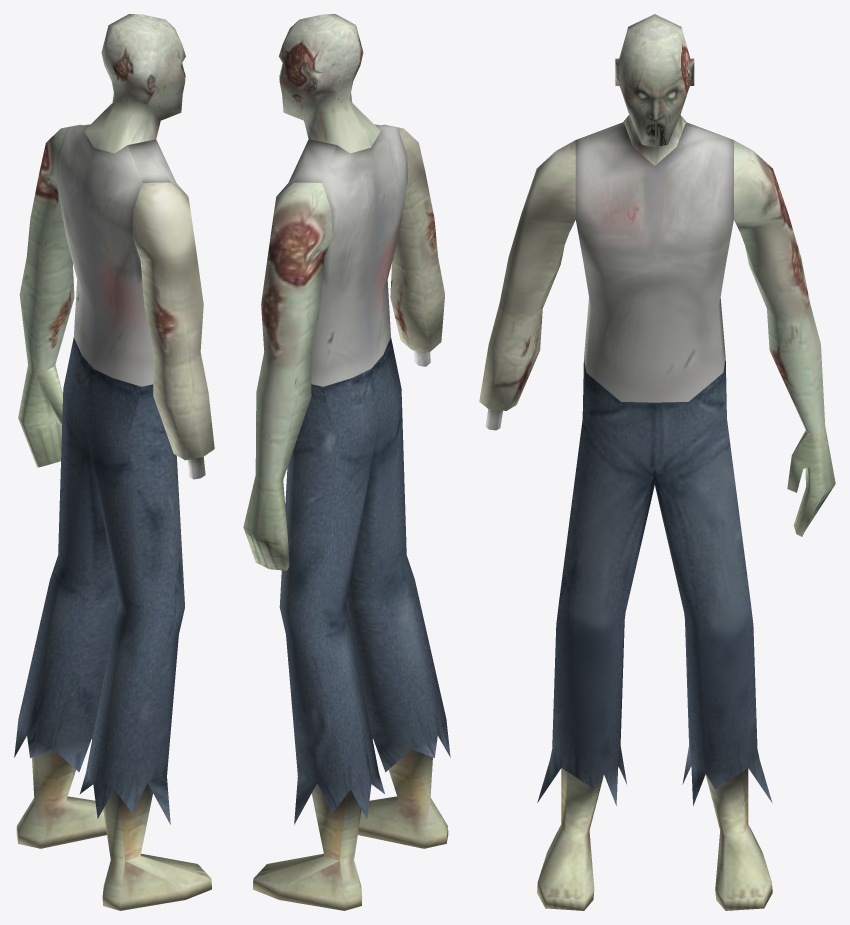
The model's file is zombie.dae.
The picture shows the model from 3 angles, left to right: view 1: azimuth 30°, elevation 25°; view 2: azimuth 150°, elevation 25°; view 3: azimuth 270°, elevation 25°; orthographic projection. The views are drawn at different scales.
Parts seen in each view (by area): view 1: Regroup02; view 2: Regroup02; view 3: Regroup02.
Boxes of the visible parts, x1,y1,x2,y2 form: Regroup02: [14, 14, 214, 910]; Regroup02: [243, 14, 450, 910]; Regroup02: [479, 14, 835, 910].
Bounding box in the file's own units: 0.3493 × 0.793 × 2.15.
Materials: 1 (1 with a texture image).
